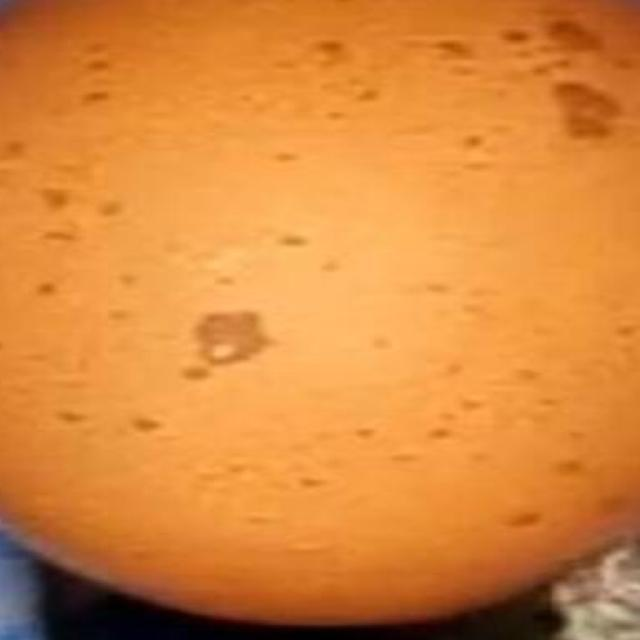unfresh: (0, 0, 640, 588)
